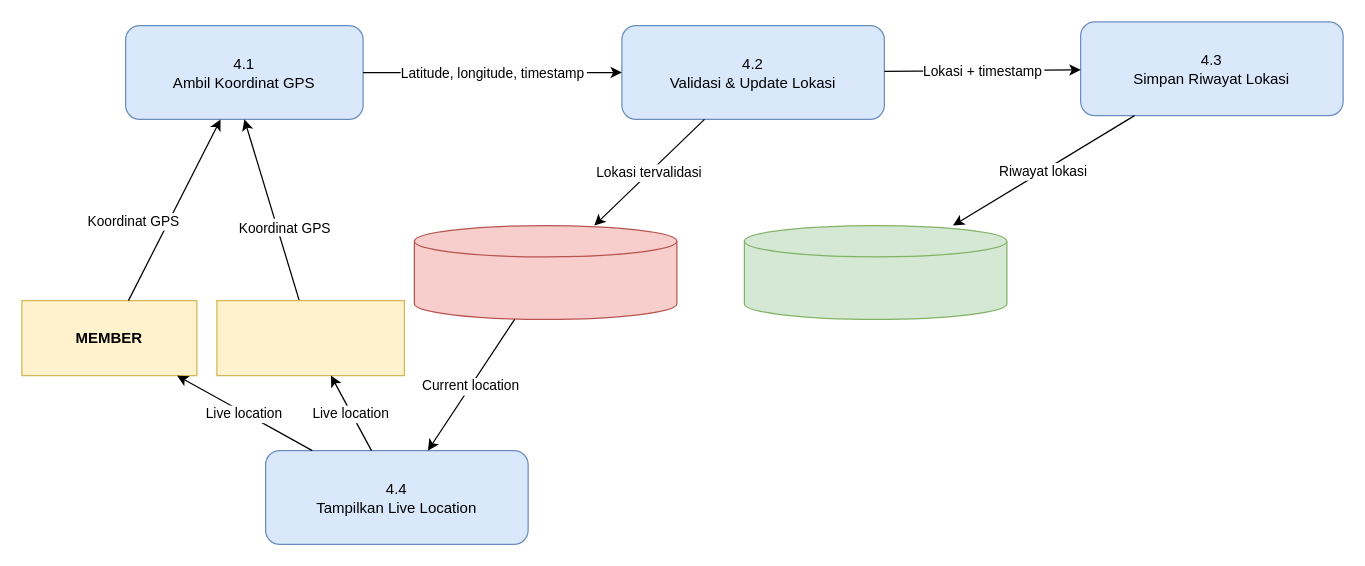
The diagram is 1365 pixels wide and 566 high, and some of its shapes have lost their labels. Each missing label, with the centre of its shape:
"D4 Location Histories (MySQL)" goes at point 875,271.
"Firebase Realtime Database" goes at point 545,271.
"KETUA" goes at point 310,337.
